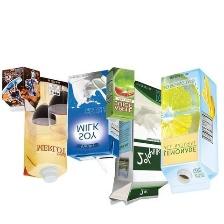carton: (106, 79, 174, 210), (156, 64, 222, 197), (64, 65, 122, 165), (18, 75, 68, 188), (100, 63, 137, 126), (0, 62, 43, 115)
